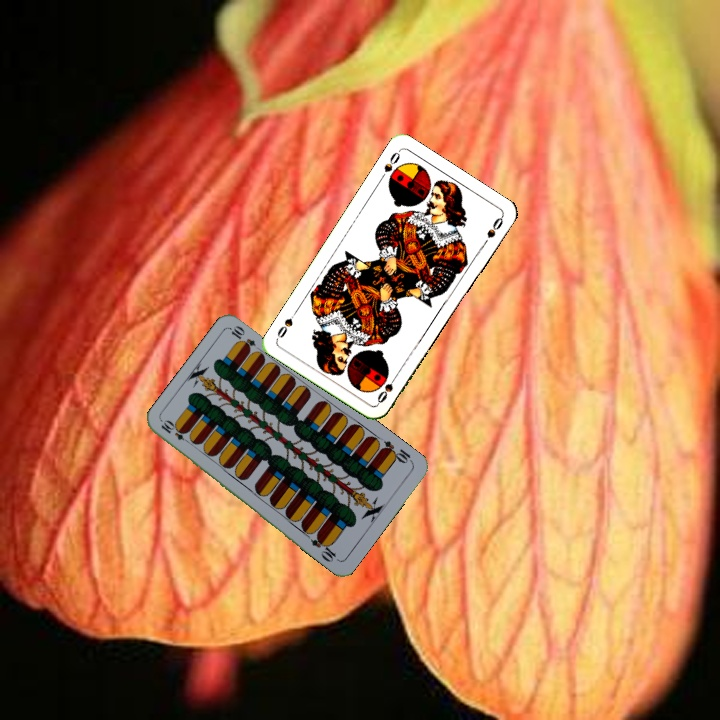E10: (157, 417, 194, 447), (377, 437, 415, 466)
SO: (373, 370, 401, 406), (375, 147, 403, 183)
